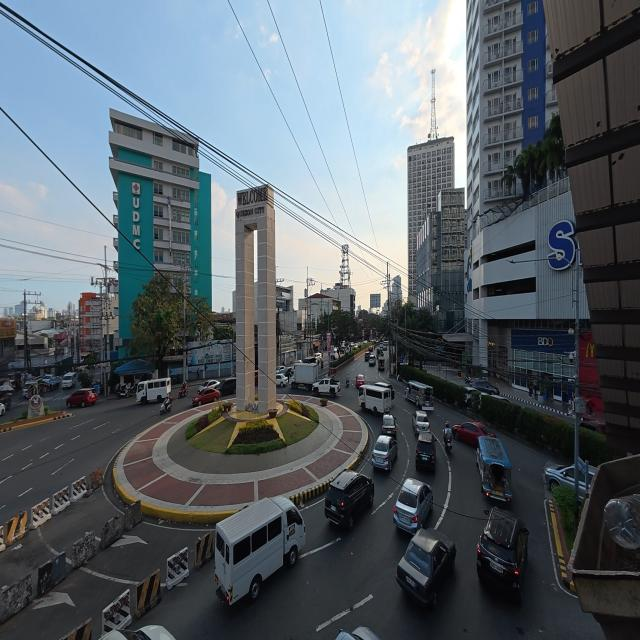car: (397, 532, 458, 612), (323, 473, 375, 531), (394, 477, 435, 533), (370, 433, 396, 469), (193, 381, 223, 406), (454, 422, 481, 446), (66, 388, 97, 408), (413, 411, 432, 429), (381, 413, 397, 431), (41, 377, 58, 390), (62, 374, 76, 389)
trucks: (312, 380, 340, 400)
vans: (218, 496, 310, 610), (357, 379, 393, 412), (136, 379, 171, 405)
